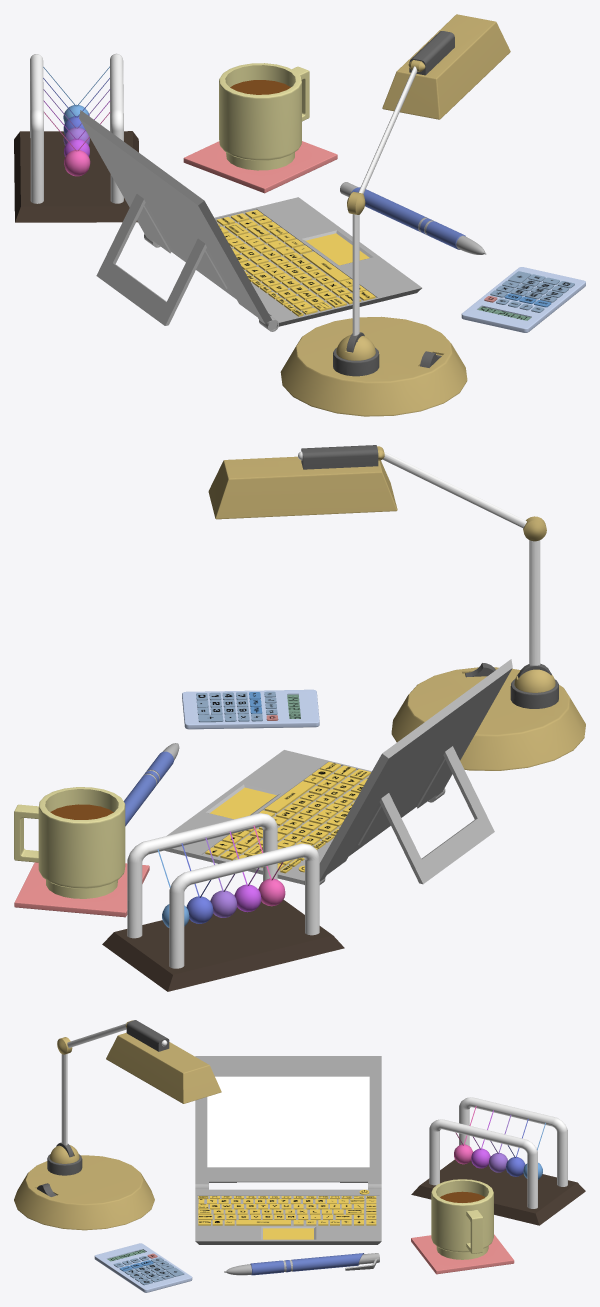
3 renders of one model, top to bottom at view 1: azimuth 30°, elevation 25°; view 2: azimuth 150°, elevation 25°; view 3: azimuth 270°, elevation 25°, orthographic. The views are drawn at different scales.
Parts seen in each view (by area): view 1: computer, lamp, pCube4, pCylinder5, calculator, pSphere3; view 2: computer, lamp, pCube4, pCylinder5, calculator, pSphere3; view 3: computer, lamp, pCube4, pCylinder5, calculator, pSphere3.
Boxes of the visible parts, x1,y1,x2,y2 form: computer: (79, 110, 421, 331); lamp: (280, 14, 510, 416); pCube4: (14, 53, 138, 222); pCylinder5: (183, 63, 337, 193); calculator: (461, 267, 585, 332); pSphere3: (340, 182, 486, 254); computer: (164, 659, 512, 884); lamp: (208, 445, 585, 770); pCube4: (102, 813, 344, 991); pCylinder5: (14, 787, 149, 917); calculator: (182, 689, 319, 729); pSphere3: (123, 743, 179, 826); computer: (195, 1056, 381, 1244); lamp: (14, 1020, 221, 1230); pCube4: (411, 1097, 585, 1225); pCylinder5: (411, 1179, 514, 1274); calculator: (94, 1243, 192, 1292); pSphere3: (224, 1253, 379, 1275).
Size of the model in its own units: 51.85 by 38.25 by 94.21.
Materials: 24 (3 with a texture image).
